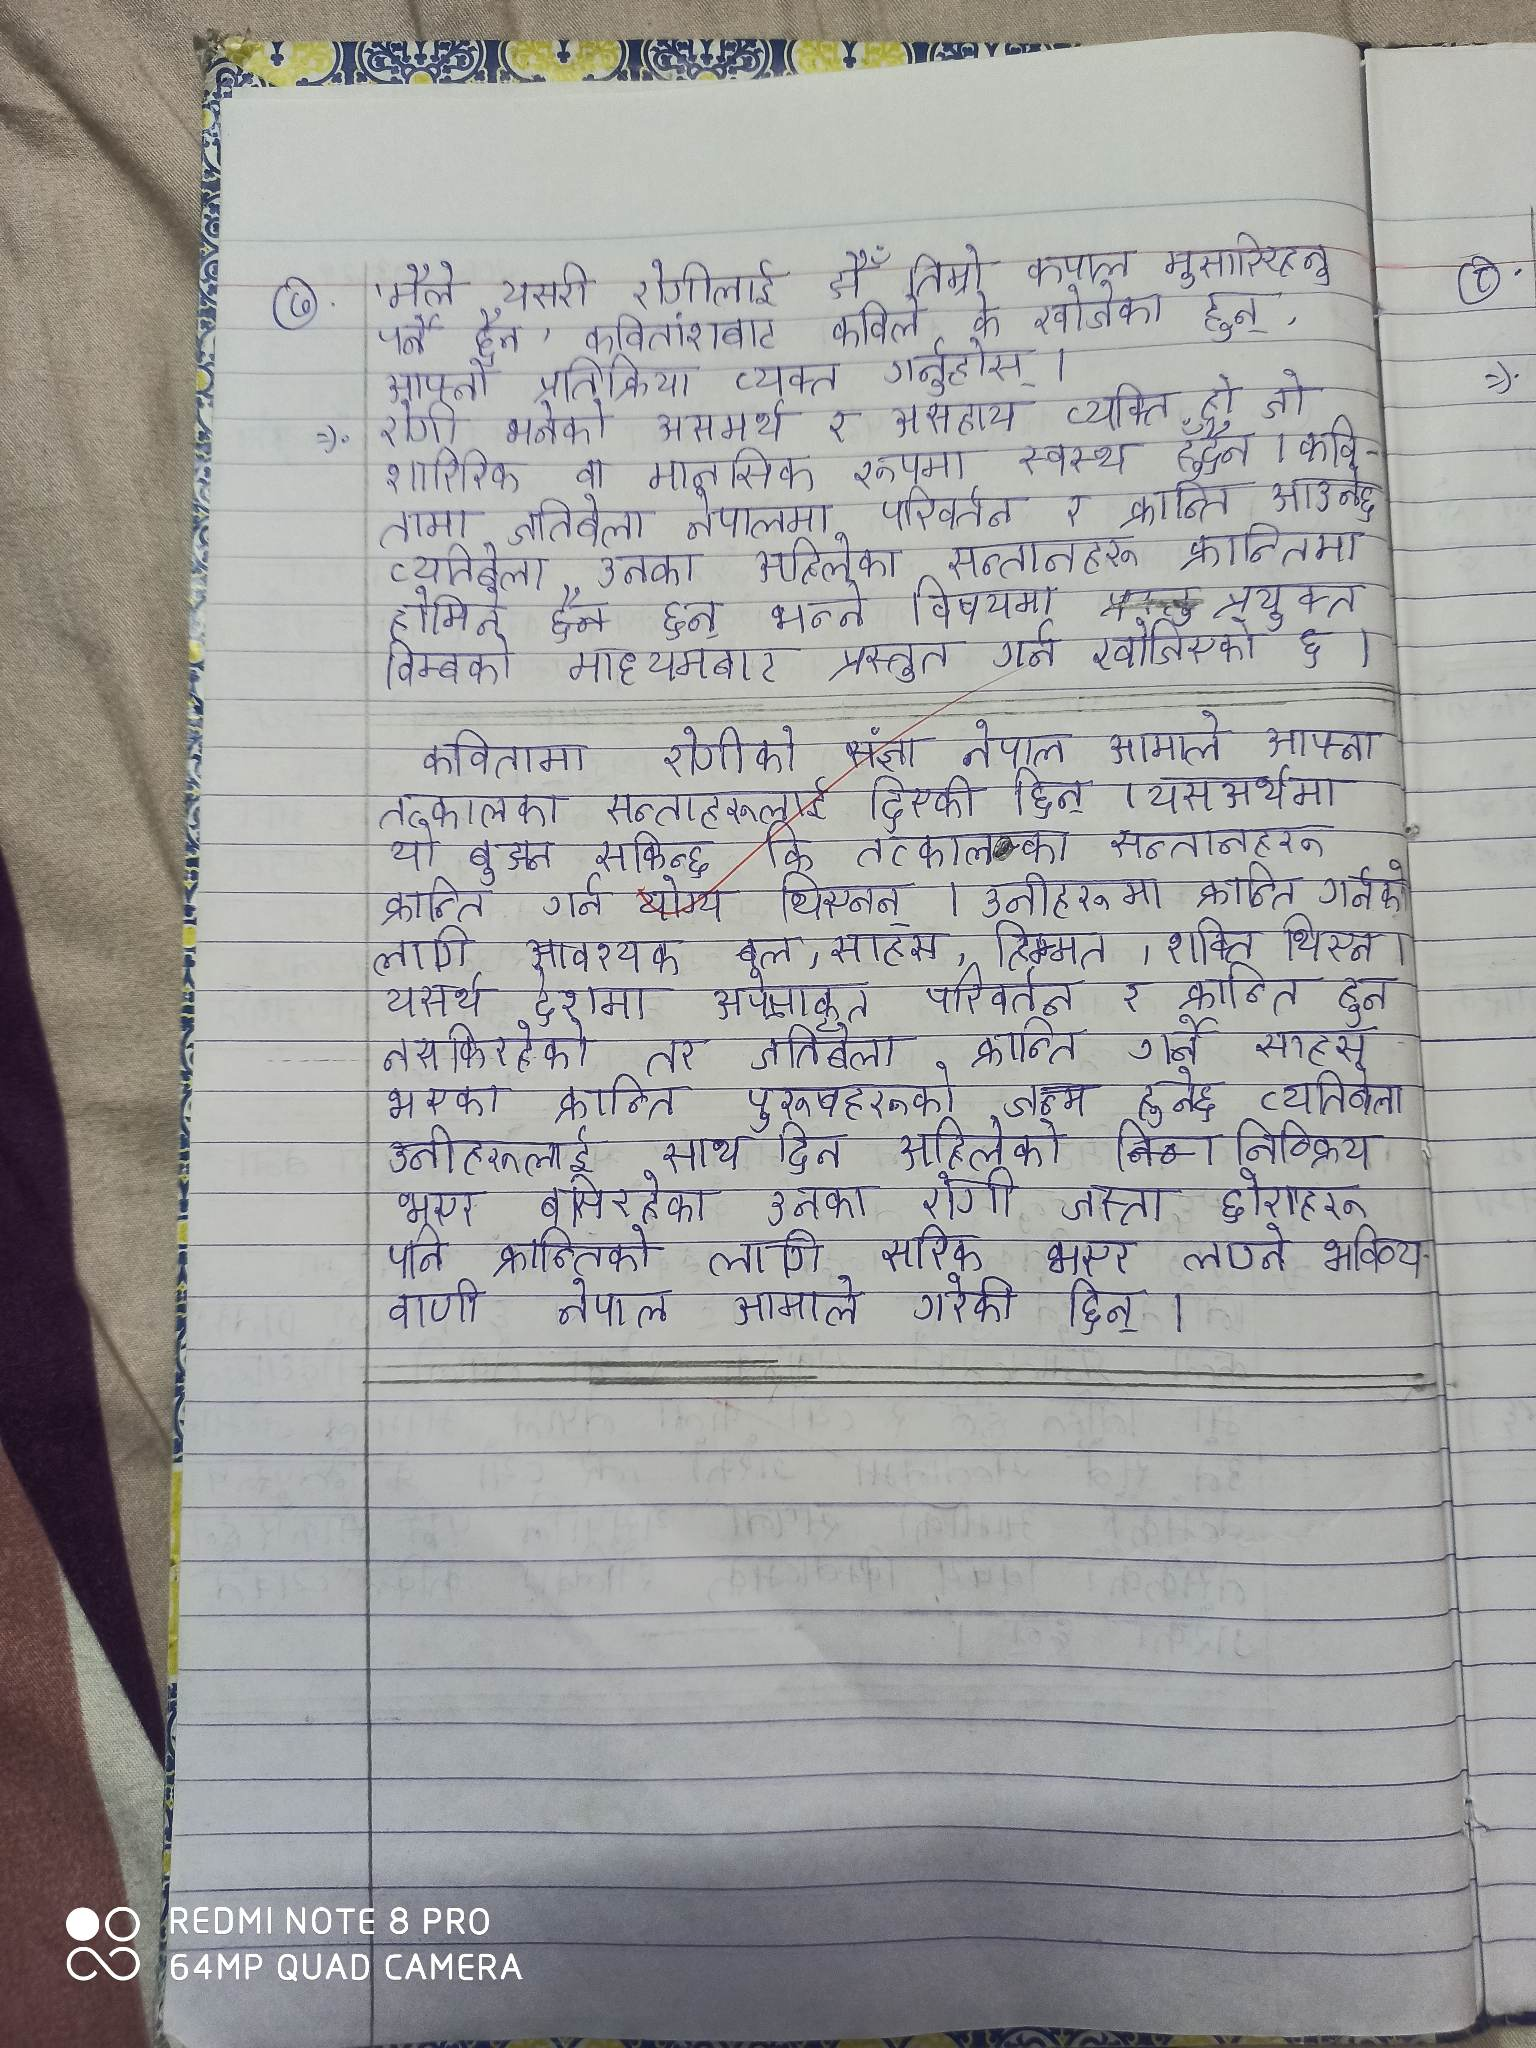text: (741, 1066, 958, 1122), (379, 1018, 591, 1074), (603, 776, 833, 826), (386, 1127, 599, 1179), (1091, 614, 1262, 676), (1163, 232, 1338, 290), (537, 1172, 715, 1227), (854, 827, 1075, 871), (1181, 518, 1362, 571), (978, 871, 1163, 922), (944, 529, 1141, 577), (566, 645, 784, 689), (584, 308, 779, 355), (487, 1222, 658, 1276), (421, 731, 586, 785), (1107, 822, 1329, 863), (897, 1119, 1063, 1172), (774, 868, 910, 932), (1217, 1168, 1375, 1222), (884, 337, 1037, 393), (749, 1021, 904, 1076), (708, 971, 871, 1022), (387, 540, 549, 592), (1254, 1066, 1409, 1119), (678, 489, 836, 540), (662, 721, 800, 779), (925, 968, 1084, 1018), (632, 256, 778, 311), (910, 571, 1055, 626), (1105, 705, 1229, 768), (733, 1272, 860, 1334), (374, 790, 566, 830), (645, 445, 816, 490), (1233, 1116, 1381, 1168), (523, 934, 686, 980), (507, 495, 645, 548), (1218, 577, 1363, 626), (536, 353, 695, 397), (381, 448, 524, 497), (1029, 282, 1163, 334), (524, 968, 649, 1022), (553, 1071, 684, 1122), (555, 1276, 671, 1334), (1178, 963, 1300, 1018), (879, 485, 1018, 534), (753, 537, 900, 582), (705, 1226, 821, 1282), (863, 771, 975, 829), (382, 640, 511, 690), (1318, 1222, 1426, 1282), (653, 397, 786, 445), (912, 1271, 1021, 1329), (1267, 468, 1378, 522), (1215, 766, 1341, 814), (386, 589, 503, 640), (992, 916, 1110, 968), (366, 922, 473, 979), (887, 398, 1029, 440), (823, 640, 954, 685), (595, 829, 716, 877), (879, 1222, 989, 1276), (1179, 1226, 1291, 1277), (1118, 479, 1233, 529), (968, 1016, 1078, 1068), (382, 1277, 486, 1332), (828, 921, 949, 968), (958, 718, 1071, 768), (1315, 856, 1409, 916), (1196, 860, 1300, 913), (1279, 913, 1384, 966), (1062, 379, 1173, 429), (503, 397, 610, 448), (768, 581, 868, 635), (921, 1168, 1020, 1222), (1018, 434, 1133, 481), (1170, 418, 1258, 477), (1136, 1068, 1223, 1127), (632, 874, 729, 927), (379, 1080, 502, 1122), (1260, 726, 1381, 768), (1066, 1274, 1141, 1342), (1252, 1026, 1371, 1068), (1060, 1182, 1167, 1229), (1008, 763, 1091, 822), (849, 445, 970, 485), (381, 879, 490, 922), (1042, 1234, 1137, 1284), (500, 260, 592, 311), (1163, 914, 1255, 966), (733, 356, 841, 400), (828, 300, 923, 348), (595, 545, 700, 589), (765, 1184, 871, 1226), (908, 239, 987, 295), (382, 360, 487, 402), (468, 834, 552, 885), (773, 1119, 847, 1177), (1129, 1016, 1212, 1068), (1204, 284, 1275, 342), (379, 977, 486, 1016), (378, 400, 460, 448), (1025, 248, 1136, 284), (992, 618, 1058, 676), (828, 242, 891, 302), (386, 260, 458, 311), (1297, 411, 1363, 468), (658, 1134, 744, 1177), (373, 506, 468, 545), (395, 1184, 479, 1227), (382, 1222, 445, 1280), (999, 1082, 1092, 1119), (841, 727, 920, 769), (1146, 766, 1212, 816), (1334, 971, 1391, 1029), (660, 597, 729, 643), (547, 585, 605, 640), (378, 310, 440, 360), (760, 822, 820, 872), (1262, 364, 1312, 423), (541, 879, 605, 922), (387, 822, 440, 874), (471, 308, 521, 361), (642, 1035, 703, 1077), (737, 934, 795, 968), (1200, 371, 1238, 423), (570, 453, 615, 495), (970, 295, 1007, 342), (1296, 629, 1329, 676), (1118, 976, 1146, 1021), (826, 405, 854, 448), (1058, 489, 1086, 529), (286, 289, 315, 323)
